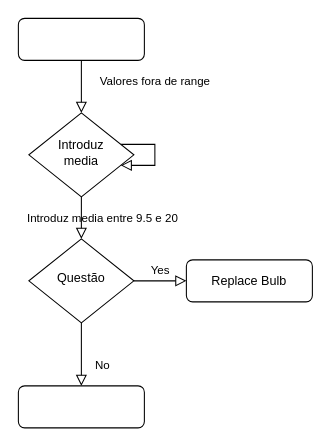
This 331x446 diagram has some shape labels left out. The shapes that lost their labels are listed below. From the top down, each one's centre as x and y in pixels, then its label:
the point at 80,38: Abre programa
the point at 80,406: Repair Lamp
